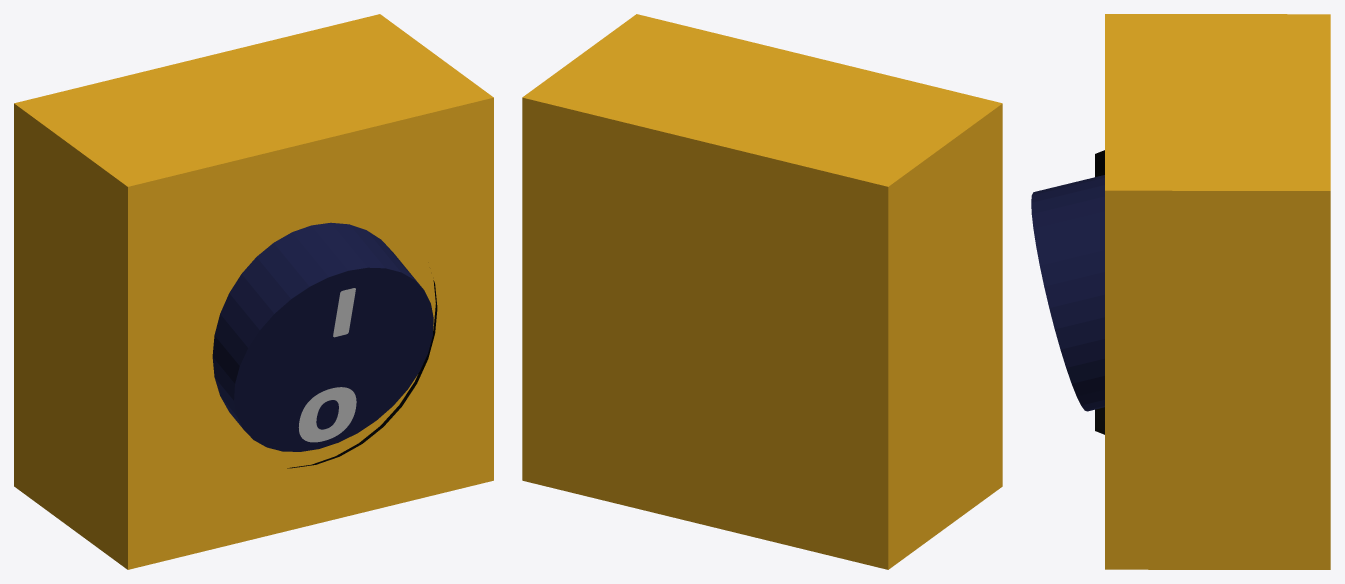
File: model-1765119337198-animasyon.glb
The picture shows the model from 3 angles, left to right: view 1: azimuth 30°, elevation 25°; view 2: azimuth 150°, elevation 25°; view 3: azimuth 270°, elevation 25°; orthographic projection.
Visible parts, largest first — view 1: Button.003, ONOFF; view 2: Button.003; view 3: Button.003, ONOFF.
Part boxes in pixels (left/top/right/bottom): Button.003: left=14, top=14, right=493, bottom=569; ONOFF: left=212, top=222, right=433, bottom=451; Button.003: left=522, top=14, right=1002, bottom=569; Button.003: left=1095, top=14, right=1330, bottom=569; ONOFF: left=1031, top=175, right=1104, bottom=411.
Size of the model in its own units: 0.2502 by 0.25 by 0.1791.
